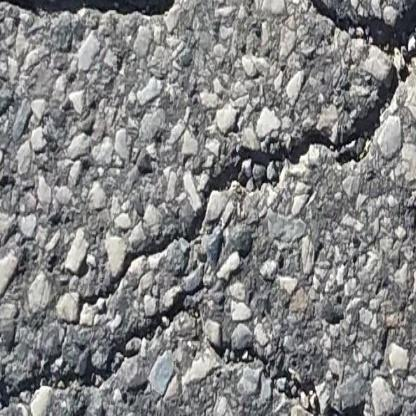Cracks: (0, 0, 416, 416), (202, 339, 380, 416), (0, 0, 195, 22)
